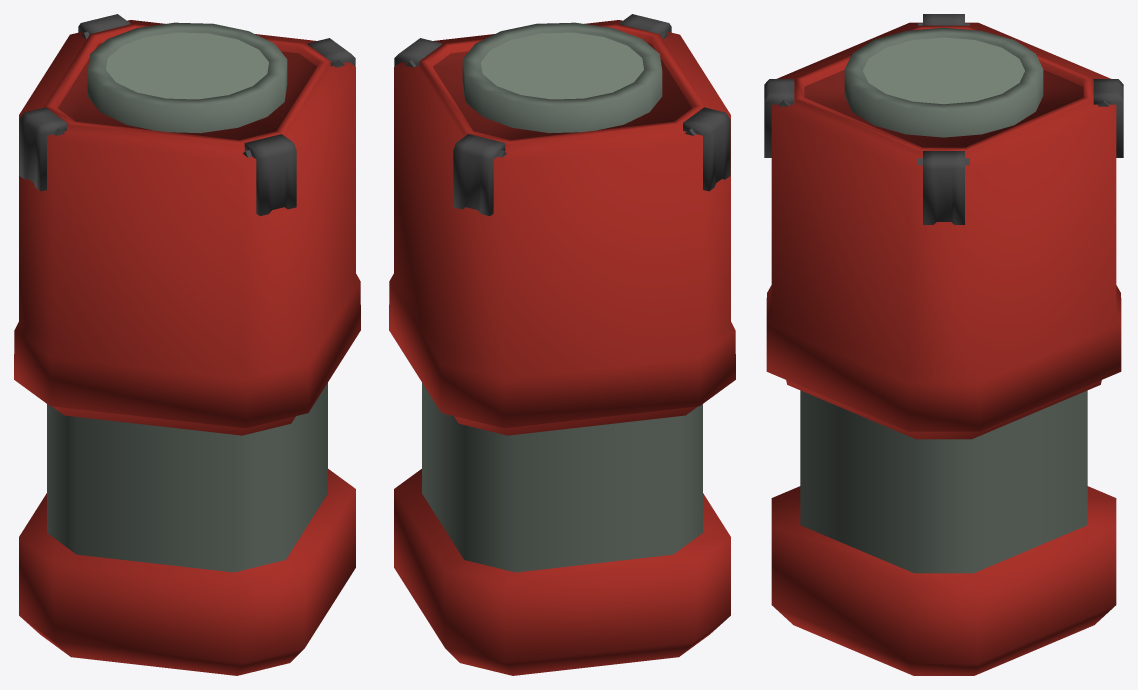
Rendered from Small_Container.fbx.
The picture shows the model from 3 angles, left to right: view 1: azimuth 30°, elevation 25°; view 2: azimuth 150°, elevation 25°; view 3: azimuth 270°, elevation 25°; orthographic projection.
Visible parts, largest first — view 1: Small_Container; view 2: Small_Container; view 3: Small_Container.
Part boxes in pixels (bbox=[...]): Small_Container: bbox=[14, 14, 360, 675]; Small_Container: bbox=[389, 14, 735, 675]; Small_Container: bbox=[764, 14, 1123, 675].
Bounding box in the file's own units: 30 × 50 × 30.
